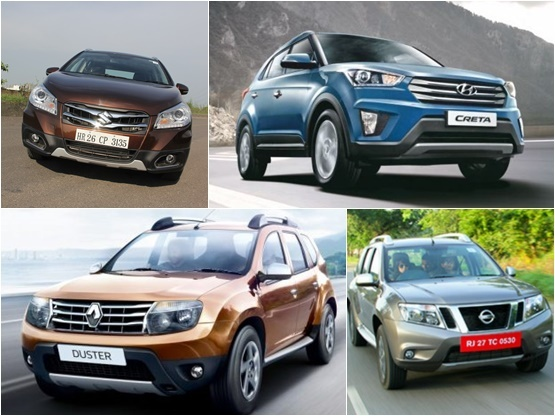number_plate: (455, 326, 534, 356)
